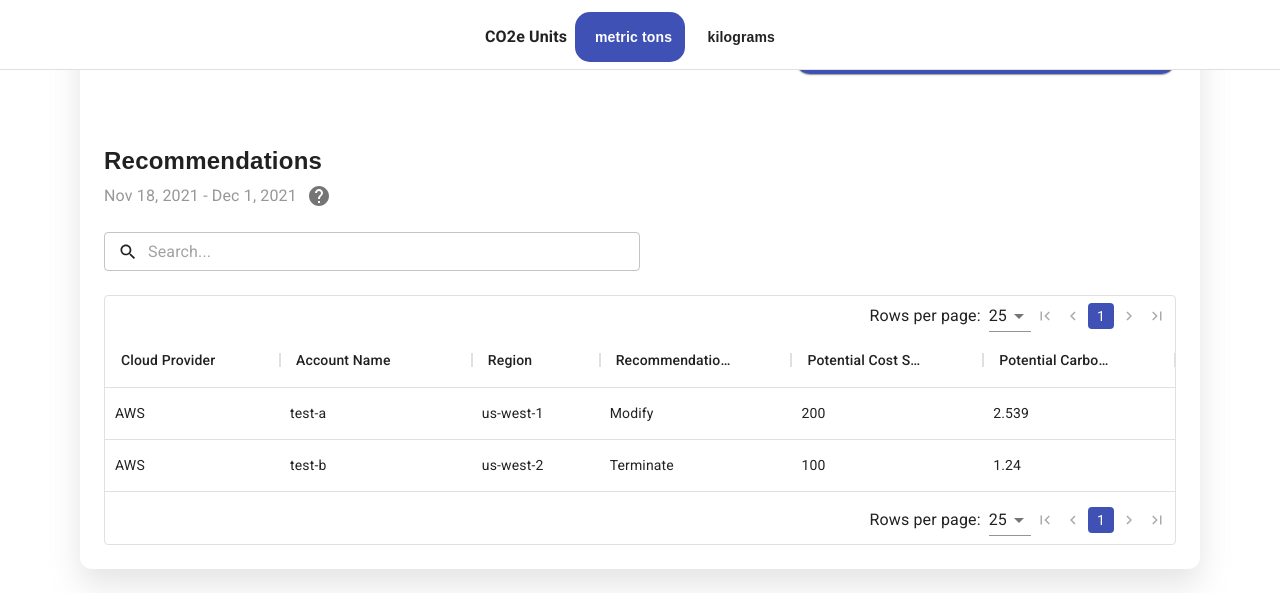
Recommendations Page › displays a new recommendation in the side panel when its recommendation row is clicked
(page scrolled)
Click the text "test-a" at (376, 414), box x1=280 y1=388 x2=472 y2=440
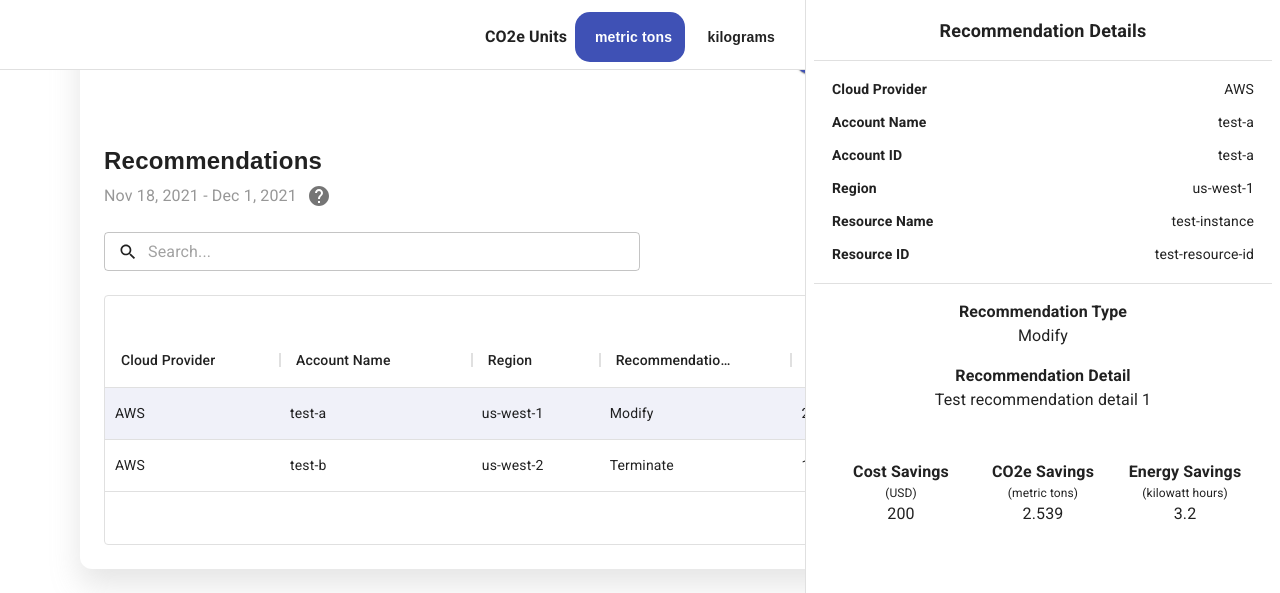
Click the text "test-b" at (376, 466), box x1=280 y1=440 x2=472 y2=492
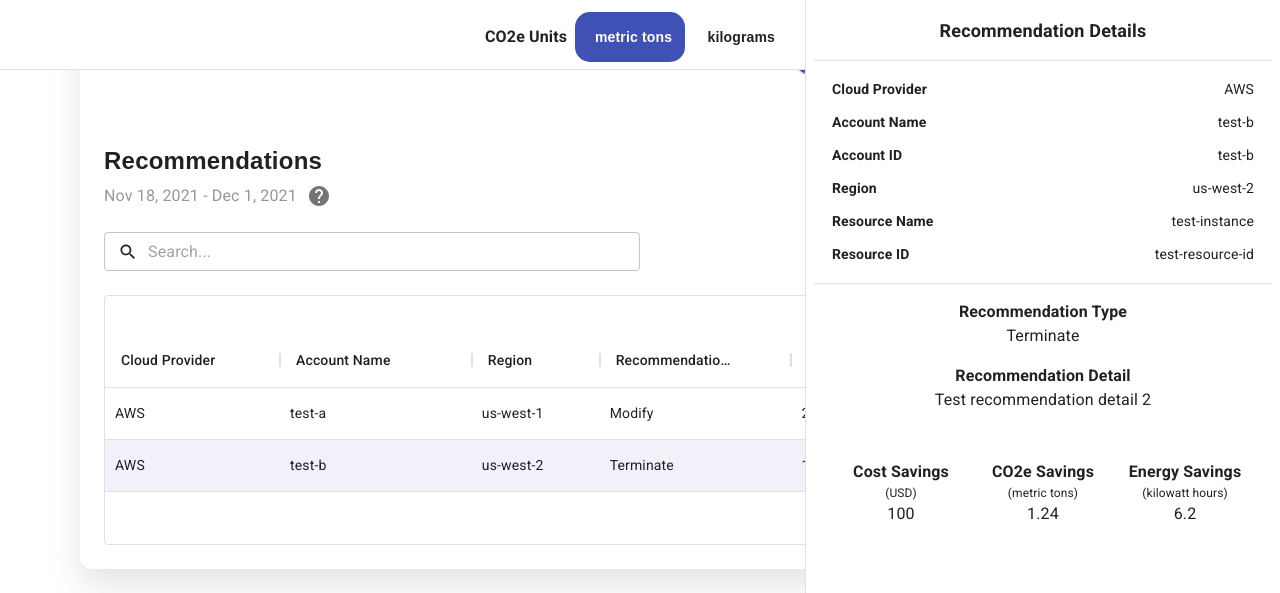
Check: the heading "Recommendation Details" is shown, box x1=940 y1=20 x2=1146 y2=41
Check: the text "Test recommendation detail 2" is shown, box x1=935 y1=388 x2=1151 y2=412
